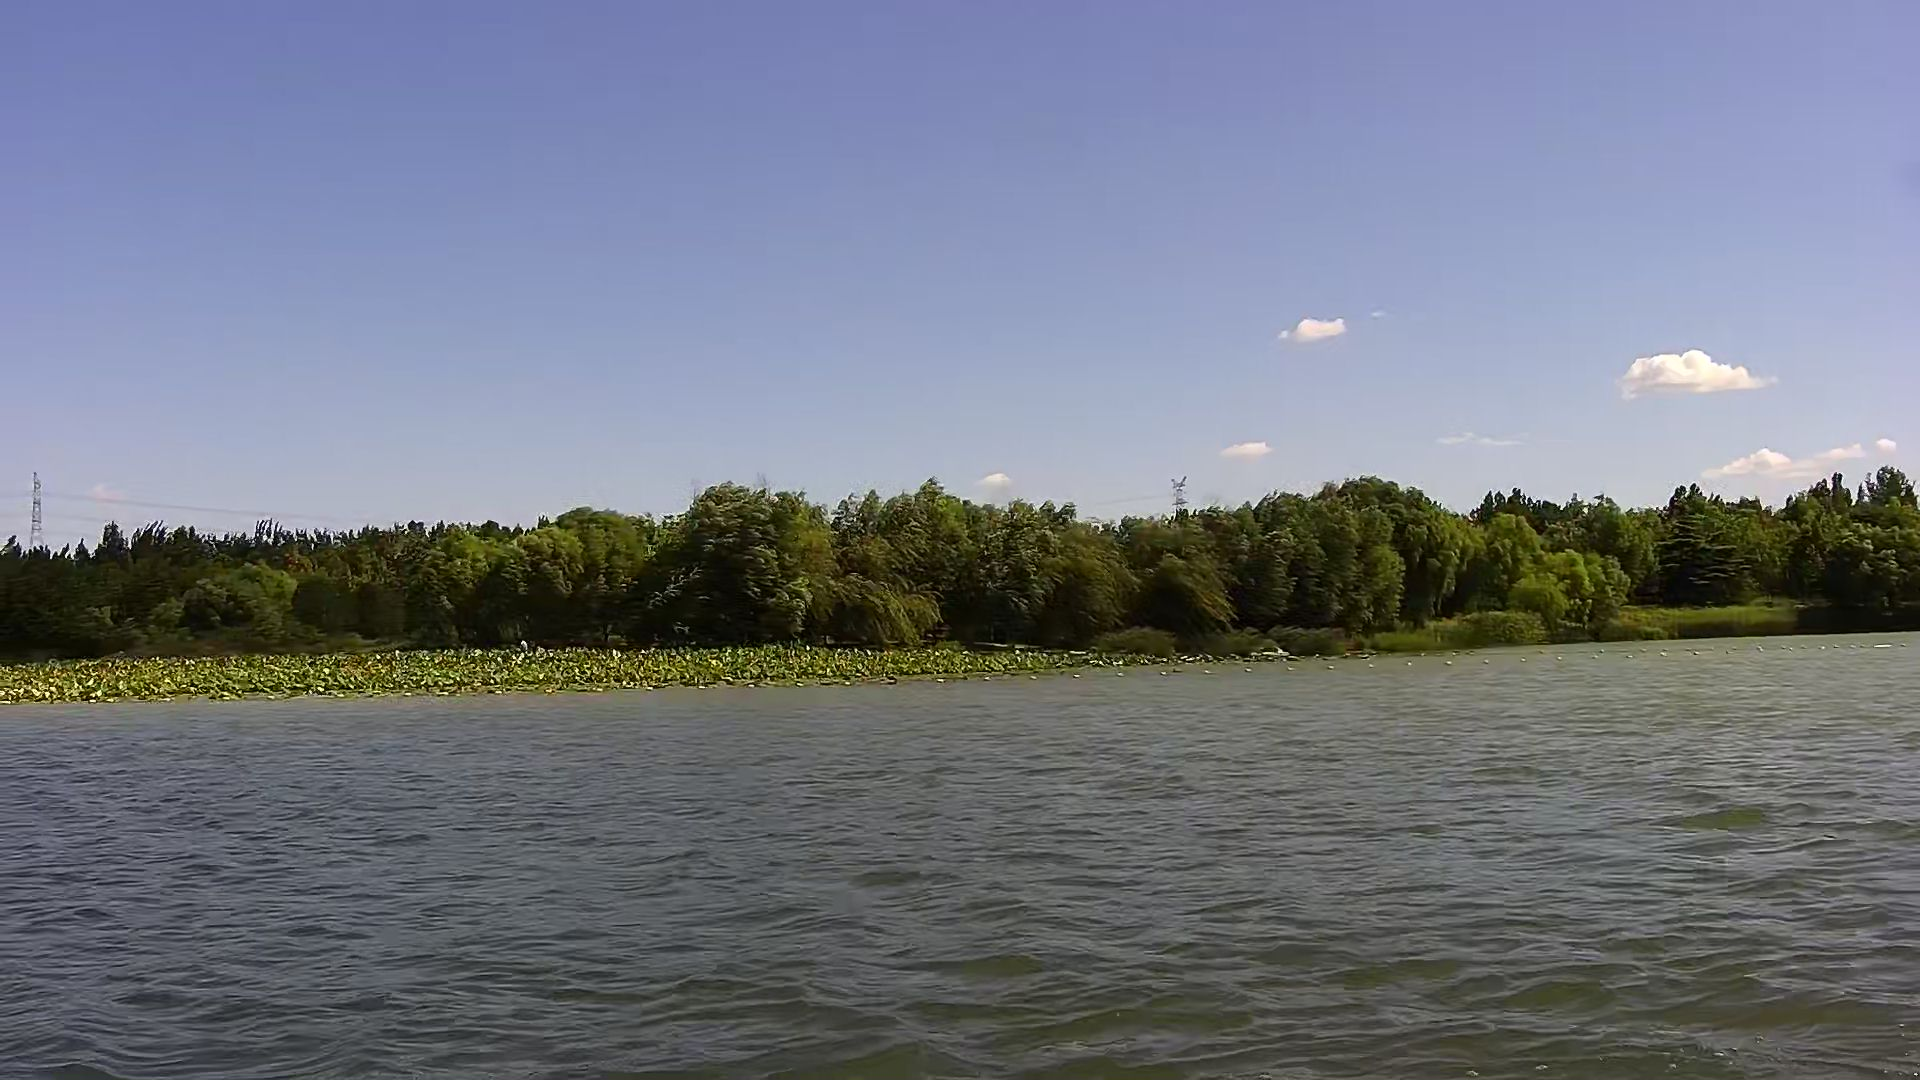grass: (4, 649, 1129, 698)
